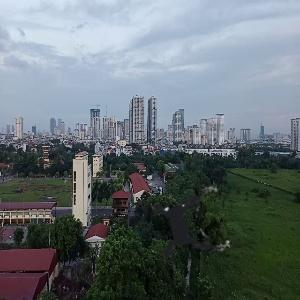drone: (114, 153, 260, 299)
